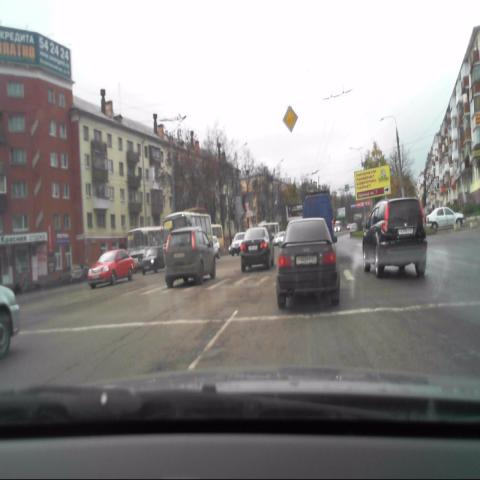2_1: (282, 104, 298, 134)
